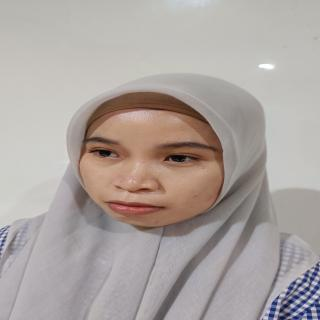Netral: (75, 96, 243, 234)
